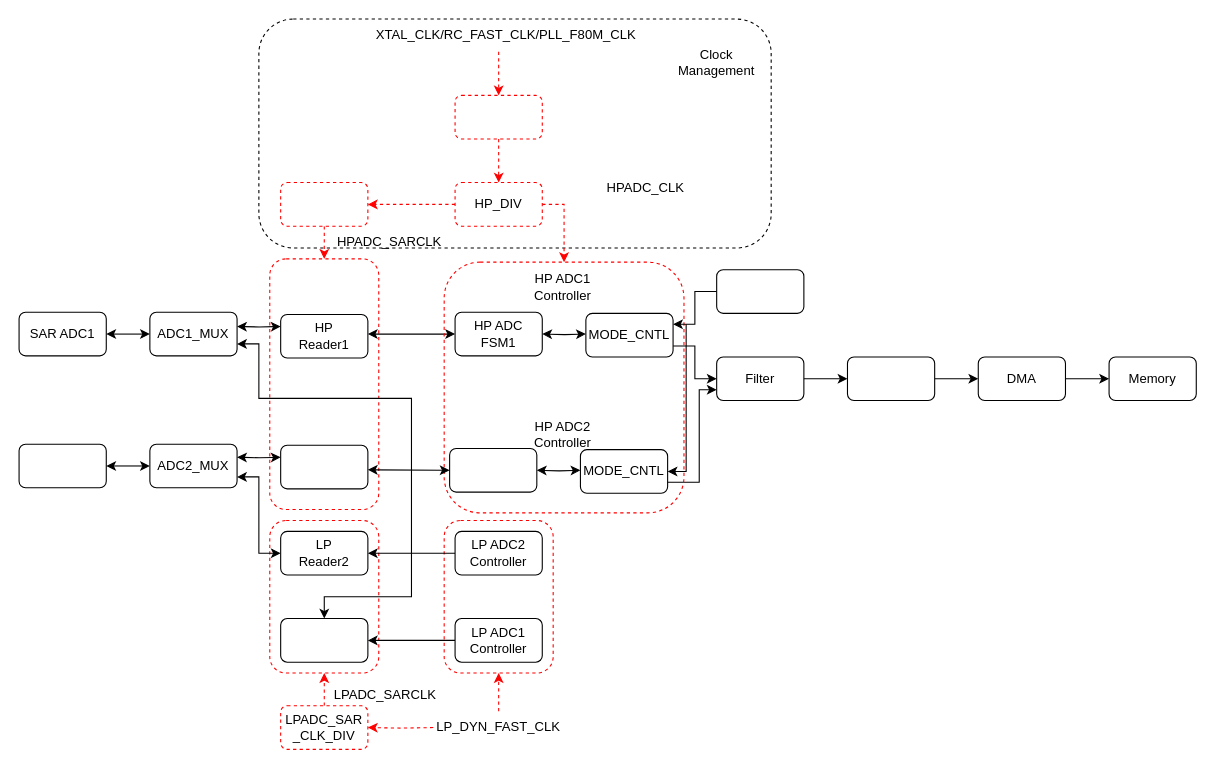
Image size: 1215x768. Some labels were removed from this diagram. The box of each missing label's shape, as (x1, y1, x2, y2) in pixels:
CLK_MUX: (454, 94, 542, 139)
HP ADC FSM2: (449, 447, 537, 492)
HP Reader2: (280, 444, 368, 489)
HP_SAR_DIV: (280, 181, 368, 226)
LP Reader1: (280, 617, 368, 662)
SAR ADC2: (18, 443, 106, 488)
Threshold Monitor: (846, 356, 935, 401)
Timer: (716, 269, 804, 313)
